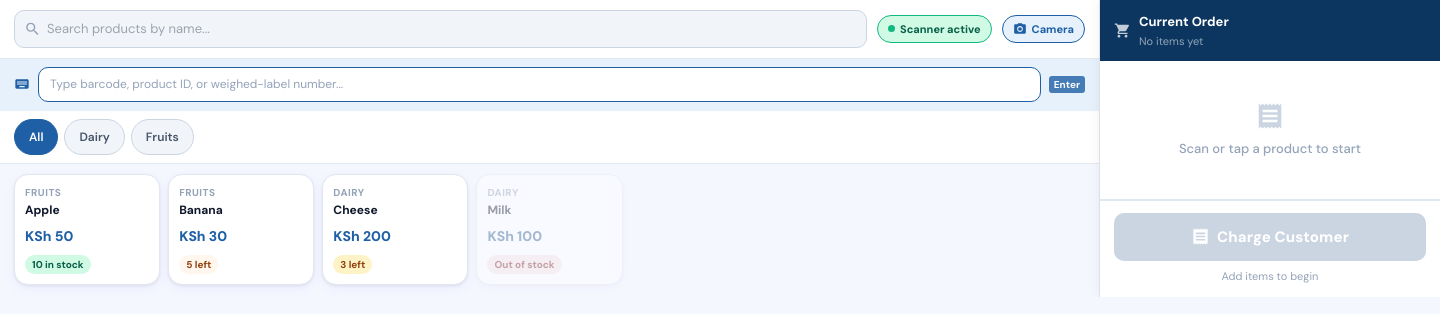
Test case: category pills › clicking a category pill filters the product grid to that category
Click the button "Dairy": (95, 137) [64,119,125,155]
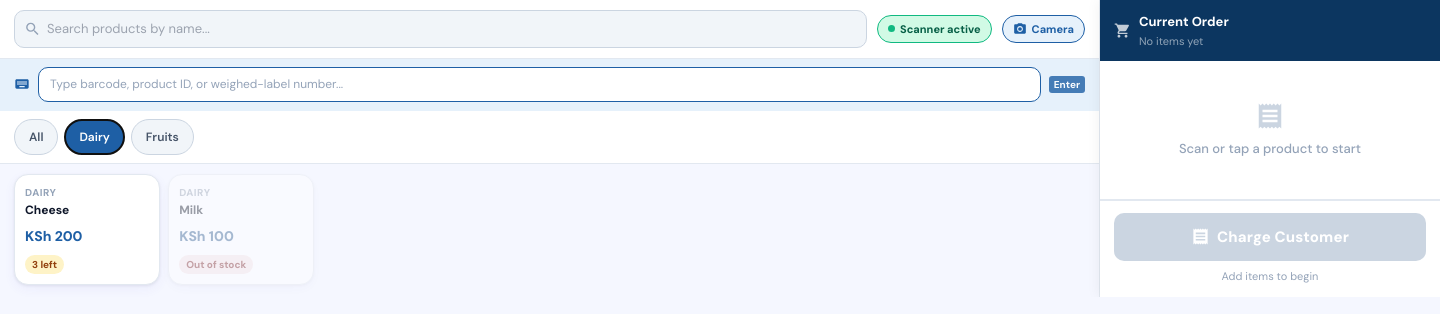
expect the text "Milk" is shown: met, box [179,202,203,218]
expect the button "Apple" is gone: met
expect the button "Banana" is gone: met
